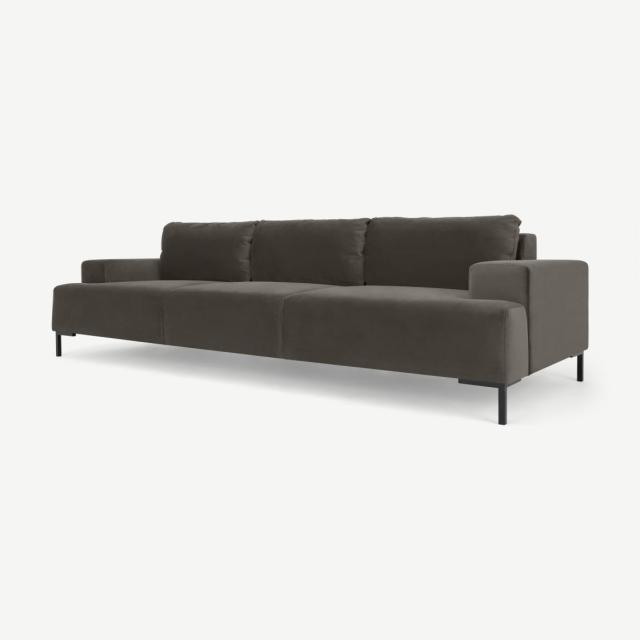back_cushion: (159, 216, 536, 290)
left_arm: (469, 260, 587, 374)
legs: (458, 379, 520, 425), (55, 331, 76, 356), (572, 353, 583, 381)
right_arm: (81, 259, 159, 283)
seat_cushion: (53, 280, 527, 381)
stallion-sofa: (0, 0, 639, 639)
